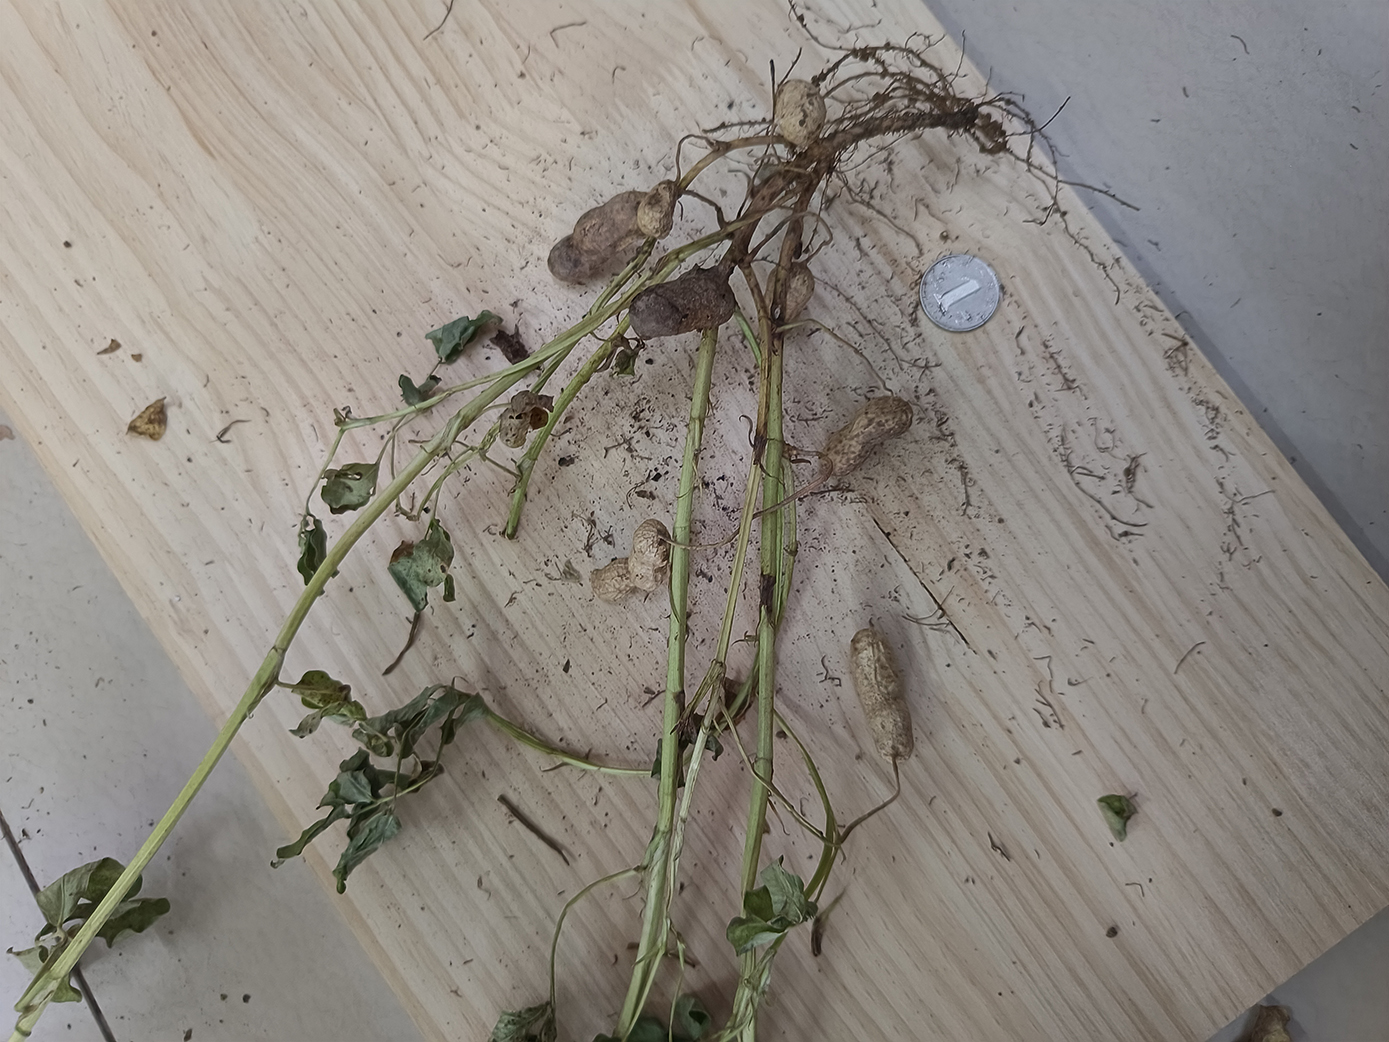h: (849, 629, 914, 764), (822, 397, 913, 477), (589, 519, 670, 605), (764, 260, 813, 329), (776, 80, 826, 147), (637, 181, 678, 238)
l: (549, 192, 643, 281), (630, 268, 738, 340)
